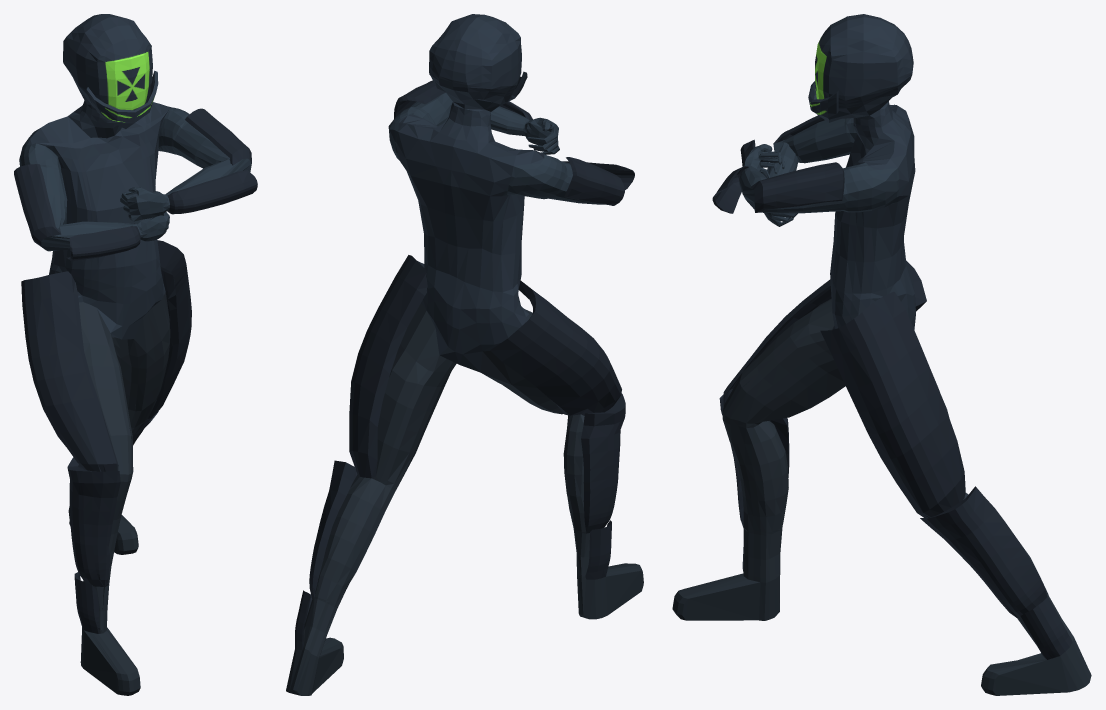
The model's file is Bastion_WL_000028.obj.
The picture shows the model from 3 angles, left to right: view 1: azimuth 30°, elevation 25°; view 2: azimuth 150°, elevation 25°; view 3: azimuth 270°, elevation 25°; orthographic projection. The views are drawn at different scales.
Visible parts, largest first — view 1: Cube.002; view 2: Cube.002; view 3: Cube.002.
Part boxes in pixels (left/top/right/bottom): Cube.002: left=14, top=14, right=257, bottom=695; Cube.002: left=286, top=14, right=643, bottom=695; Cube.002: left=672, top=14, right=1091, bottom=695.
Bounding box in the file's own units: 1.31 × 3.59 × 2.15.
